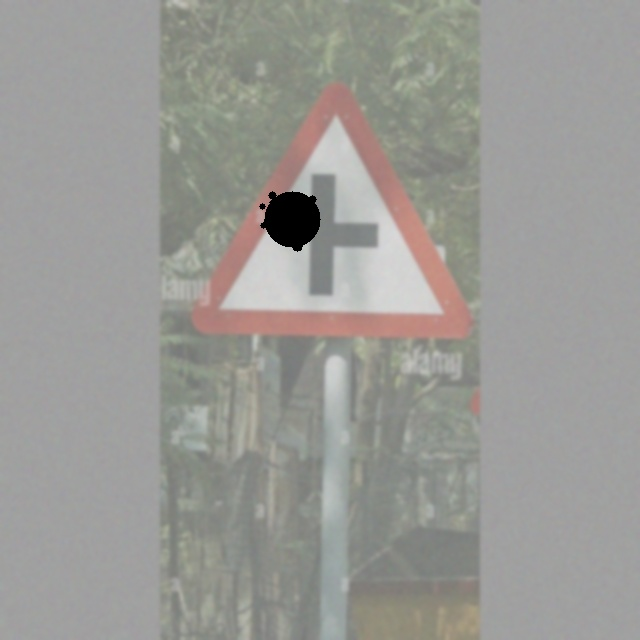Side_Road_Right: (197, 80, 472, 344)
